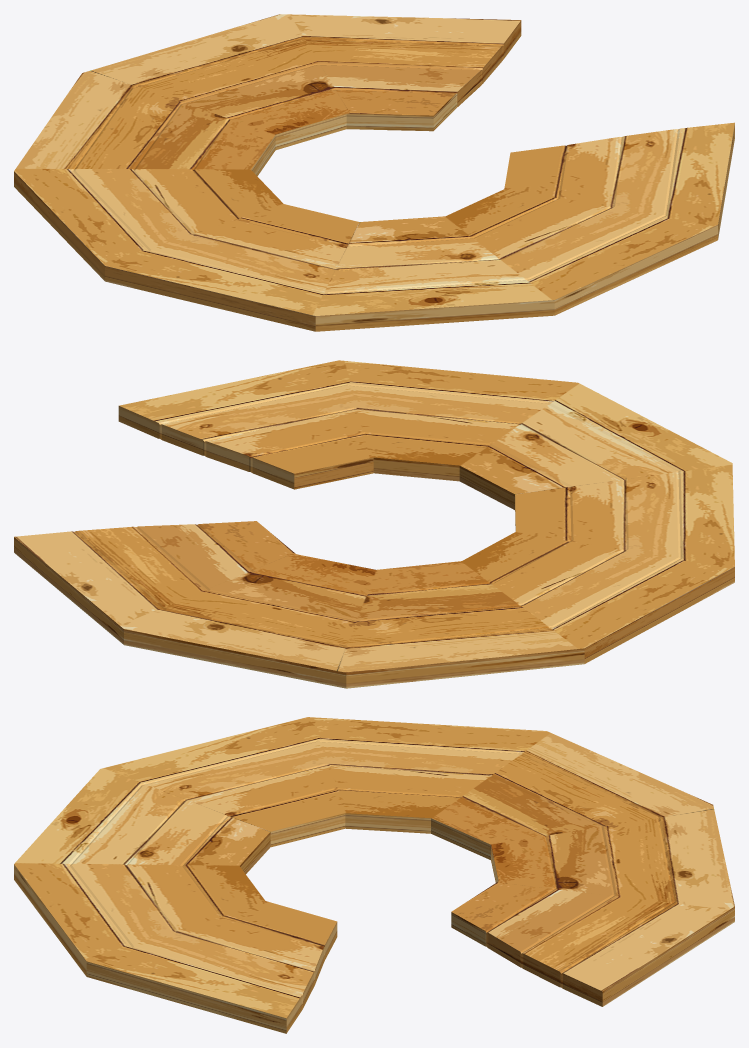
The model's file is SM_TreePlatforms_Box002.FBX.
3 renders of one model, top to bottom at view 1: azimuth 30°, elevation 25°; view 2: azimuth 150°, elevation 25°; view 3: azimuth 270°, elevation 25°, orthographic.
Parts seen in each view (by area): view 1: Box002; view 2: Box002; view 3: Box002.
Part boxes in pixels (bbox=[...]): Box002: bbox=[14, 14, 734, 331]; Box002: bbox=[14, 360, 734, 688]; Box002: bbox=[14, 717, 734, 1033].
Bounding box in the file's own units: 0.252 × 0.0061 × 0.2549.
Materials: 1 (1 with a texture image).
